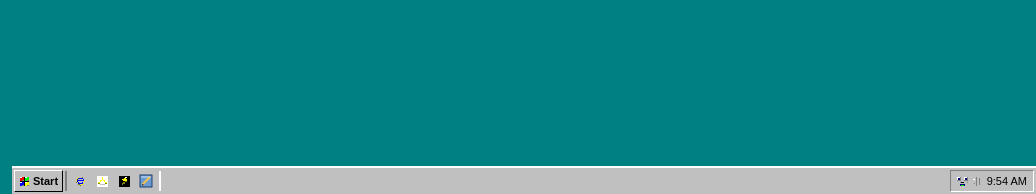
Test: Taskbar context menu › opens on right-click of the empty taskbar area
The width and height of the screenshot is (1036, 194).
Right-click the button "Start 9:54 AM" at (524, 180), box [12,166,1035,193]
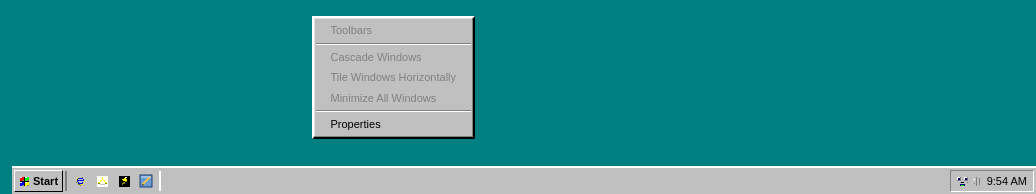
Now the button "Cascade Windows" is shown, box [314,46,472,67]
Now the button "Tile Windows Horizontally" is shown, box [314,67,472,88]
Now the button "Minimize All Windows" is shown, box [314,88,472,108]
